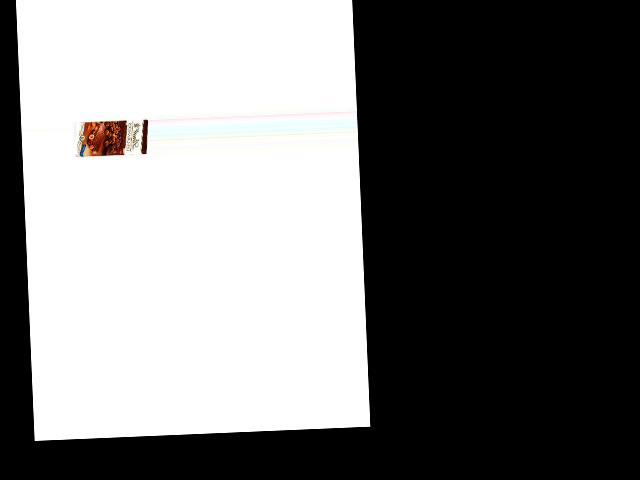chocolate: (77, 114, 146, 159)
